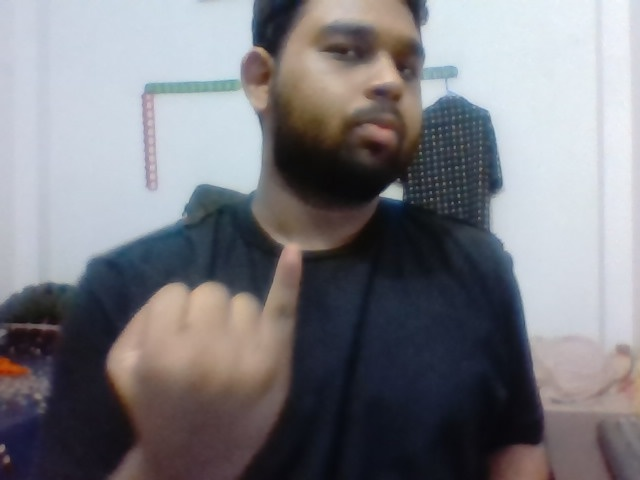I: (109, 227, 313, 448)
